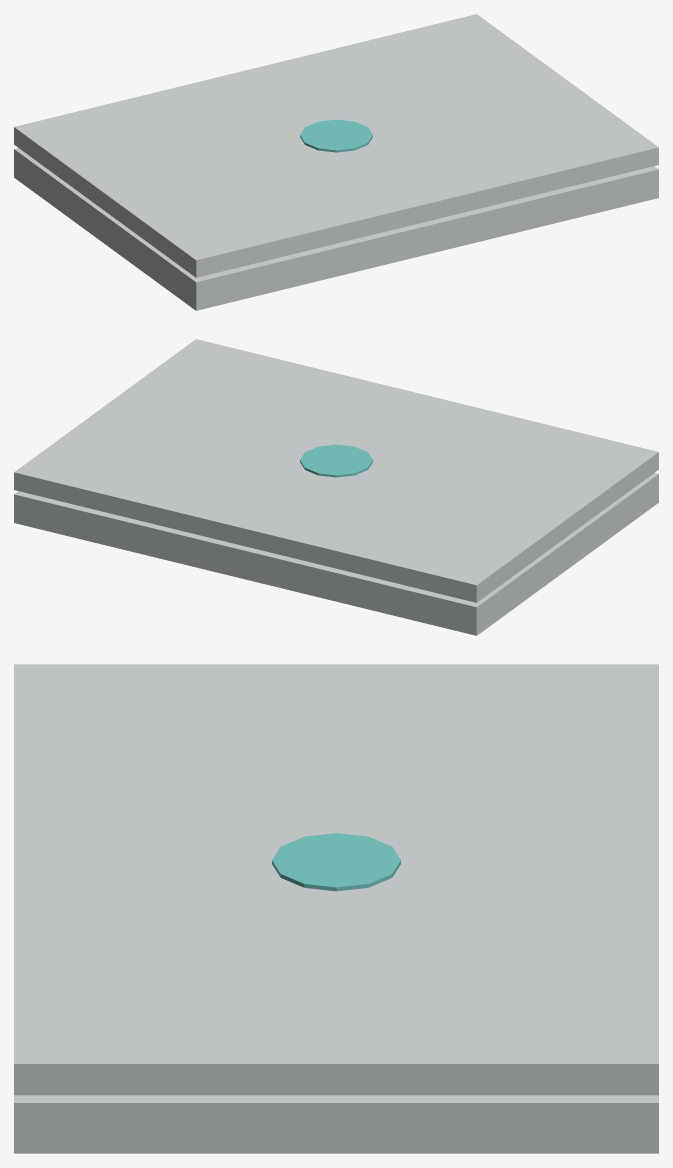
Rendered from laptop.glb.
The picture shows the model from 3 angles, top to bottom: view 1: azimuth 30°, elevation 25°; view 2: azimuth 150°, elevation 25°; view 3: azimuth 270°, elevation 25°; orthographic projection. The views are drawn at different scales.
Parts seen in each view (by area): view 1: lid_shell, base, logo; view 2: lid_shell, base, logo; view 3: lid_shell, base, logo.
Boxes of the visible parts, x1,y1,x2,y2 form: lid_shell: [14, 14, 658, 277]; base: [14, 148, 658, 310]; logo: [300, 119, 372, 152]; lid_shell: [14, 339, 658, 602]; base: [14, 473, 658, 635]; logo: [300, 444, 372, 477]; lid_shell: [14, 664, 658, 1095]; base: [14, 1095, 658, 1153]; logo: [272, 833, 400, 891].
Bounding box in the file's own units: 0.44 × 0.048 × 0.3.
